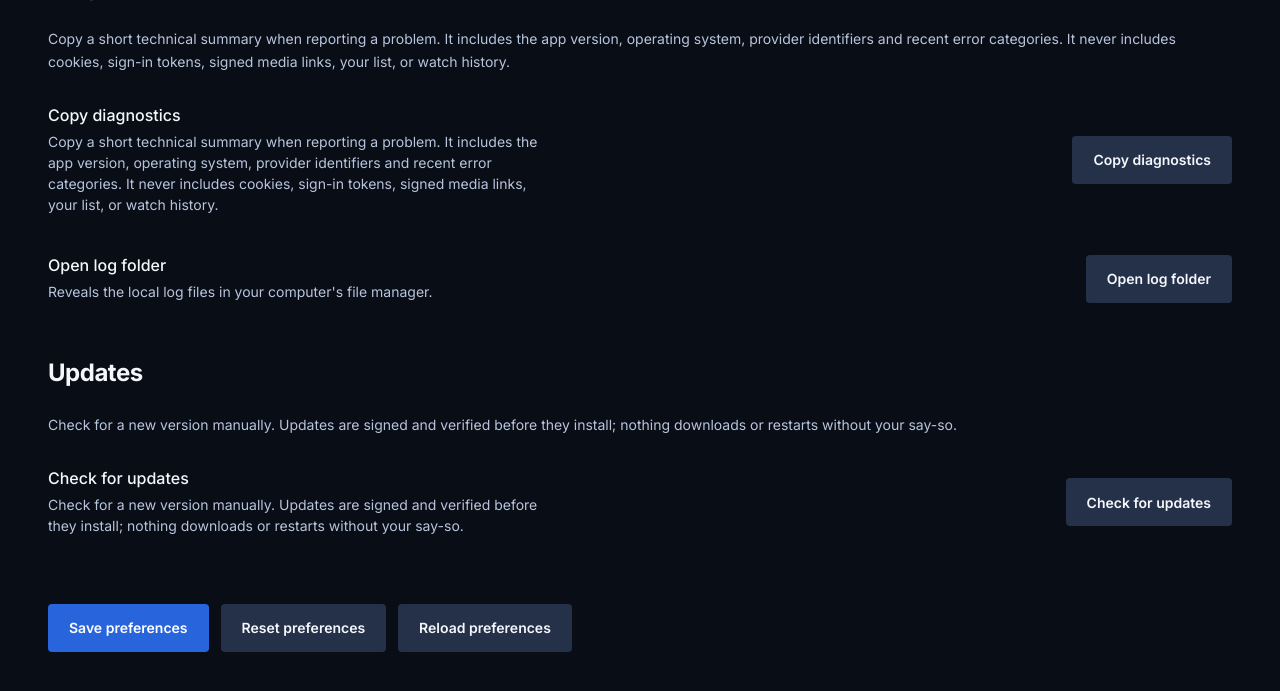
Preferences update checks › keeps the app running when the download fails and offers the update again
(page scrolled)
Click the button "Check for updates" at point(1149, 502), box [1066, 478, 1232, 526]
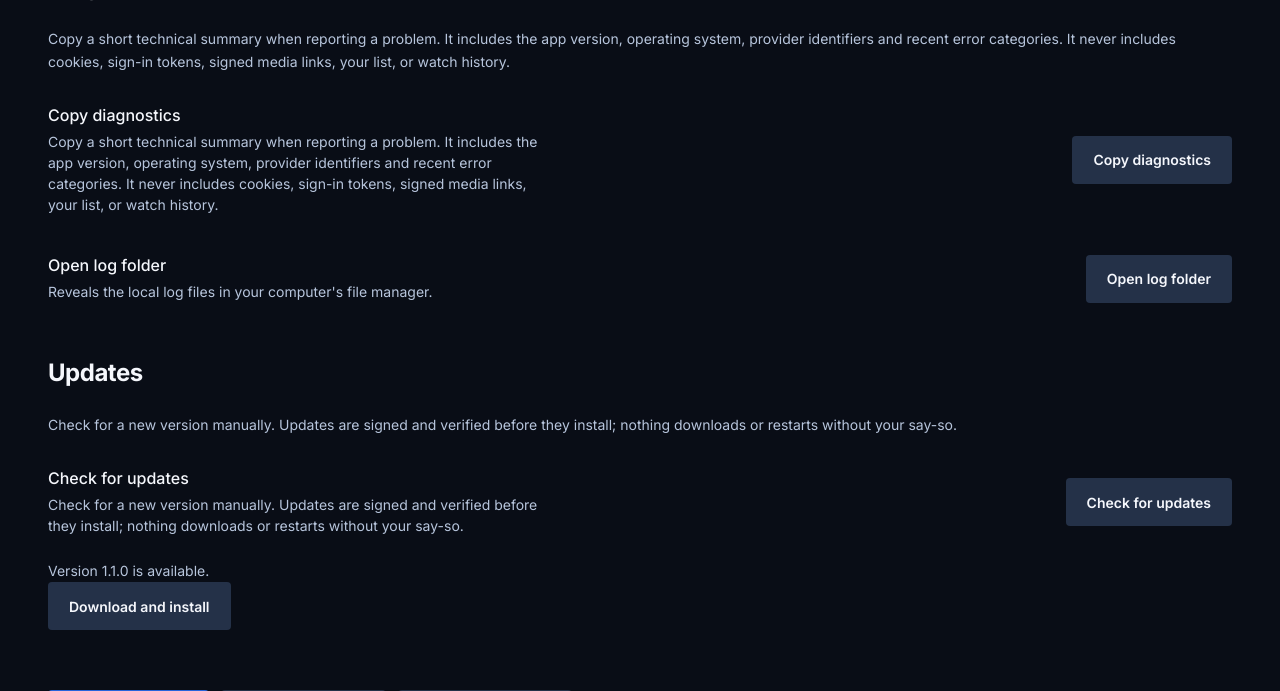
Check: the text "Version 1.1.0 is available." is shown, box [48, 562, 209, 579]
Click the button "Download and install" at point(139, 606), box [48, 582, 230, 630]
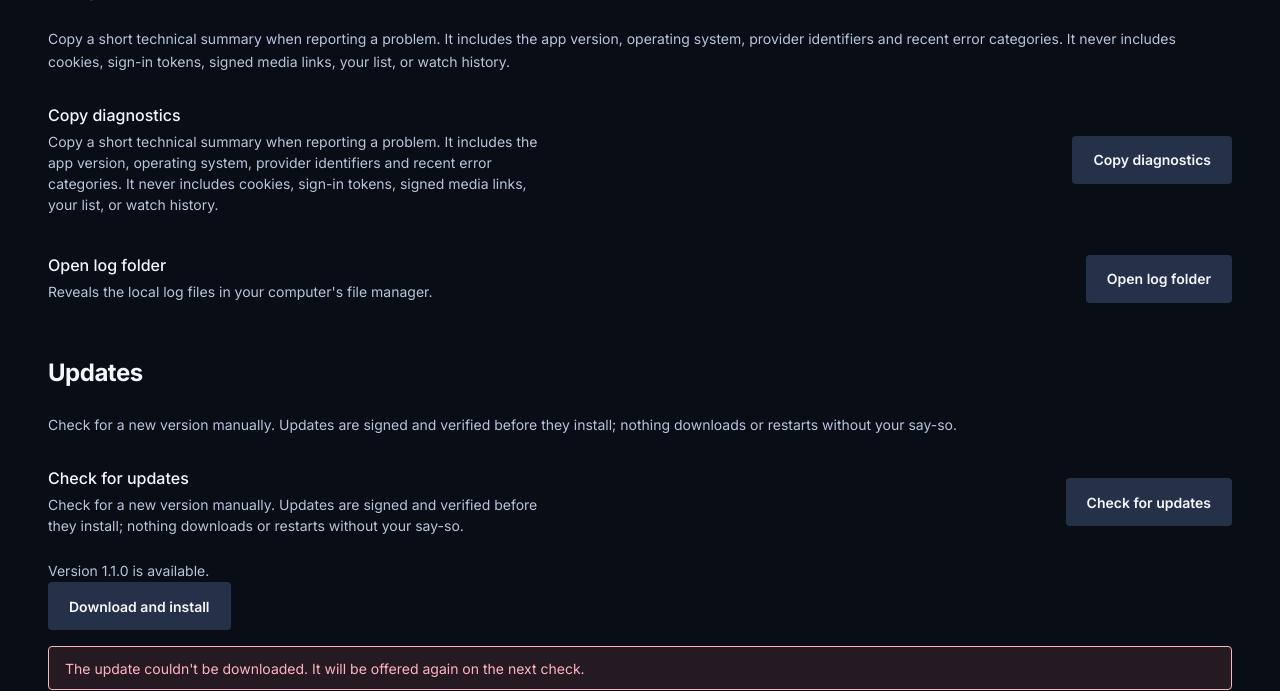
Check: the text "The update couldn't be downloaded. It will be offered again on the next check." is shown, box [65, 660, 585, 677]
